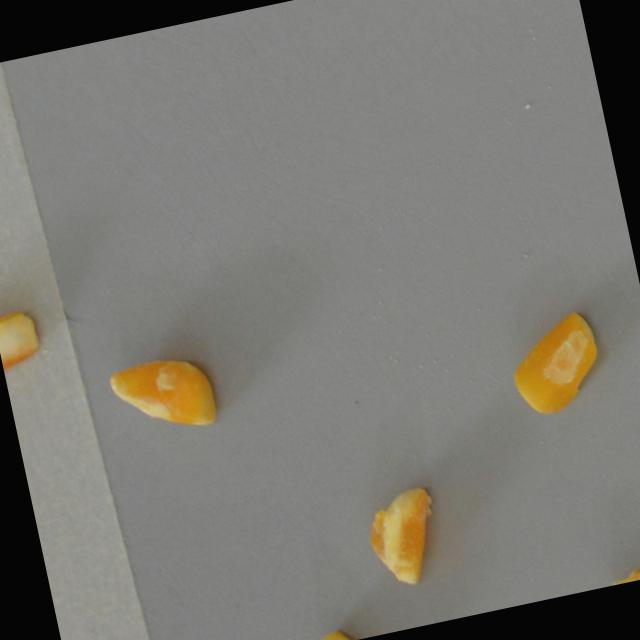pelicula: (500, 305, 611, 419), (103, 345, 224, 445), (357, 480, 450, 591), (301, 620, 377, 640), (599, 563, 640, 587)
